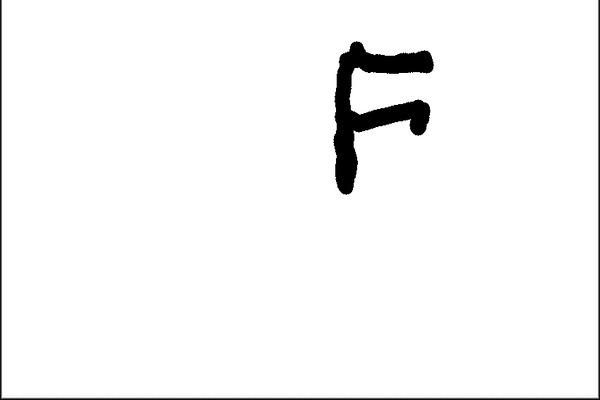F: (325, 35, 439, 196)
